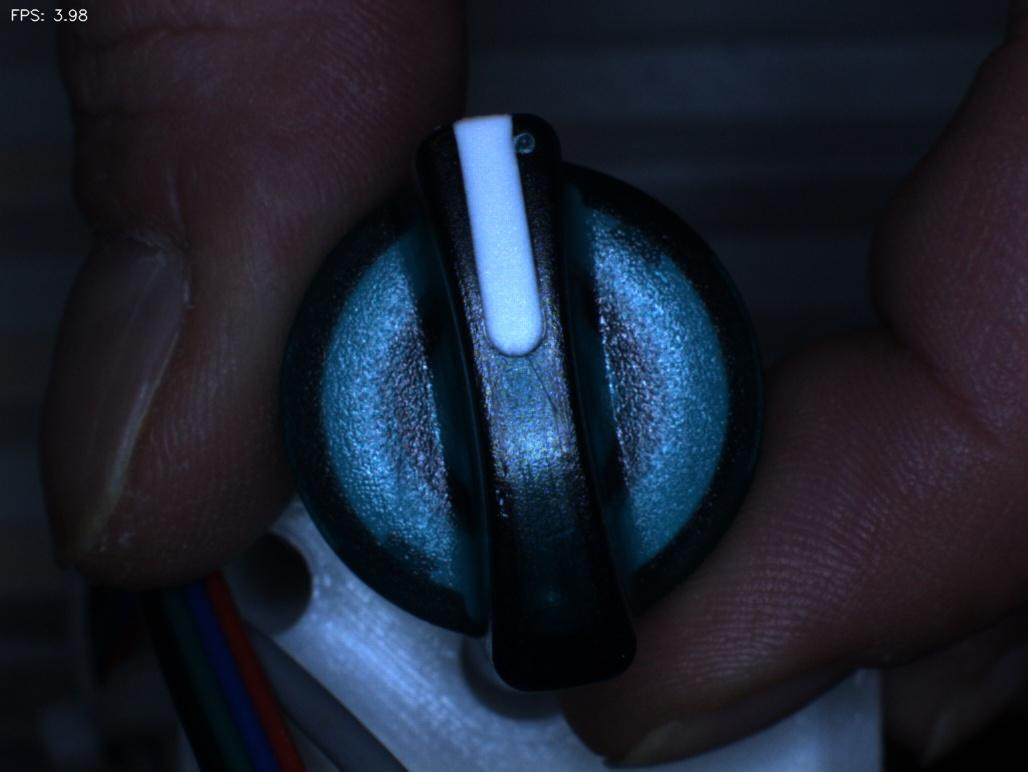Choc: (485, 102, 570, 179)
